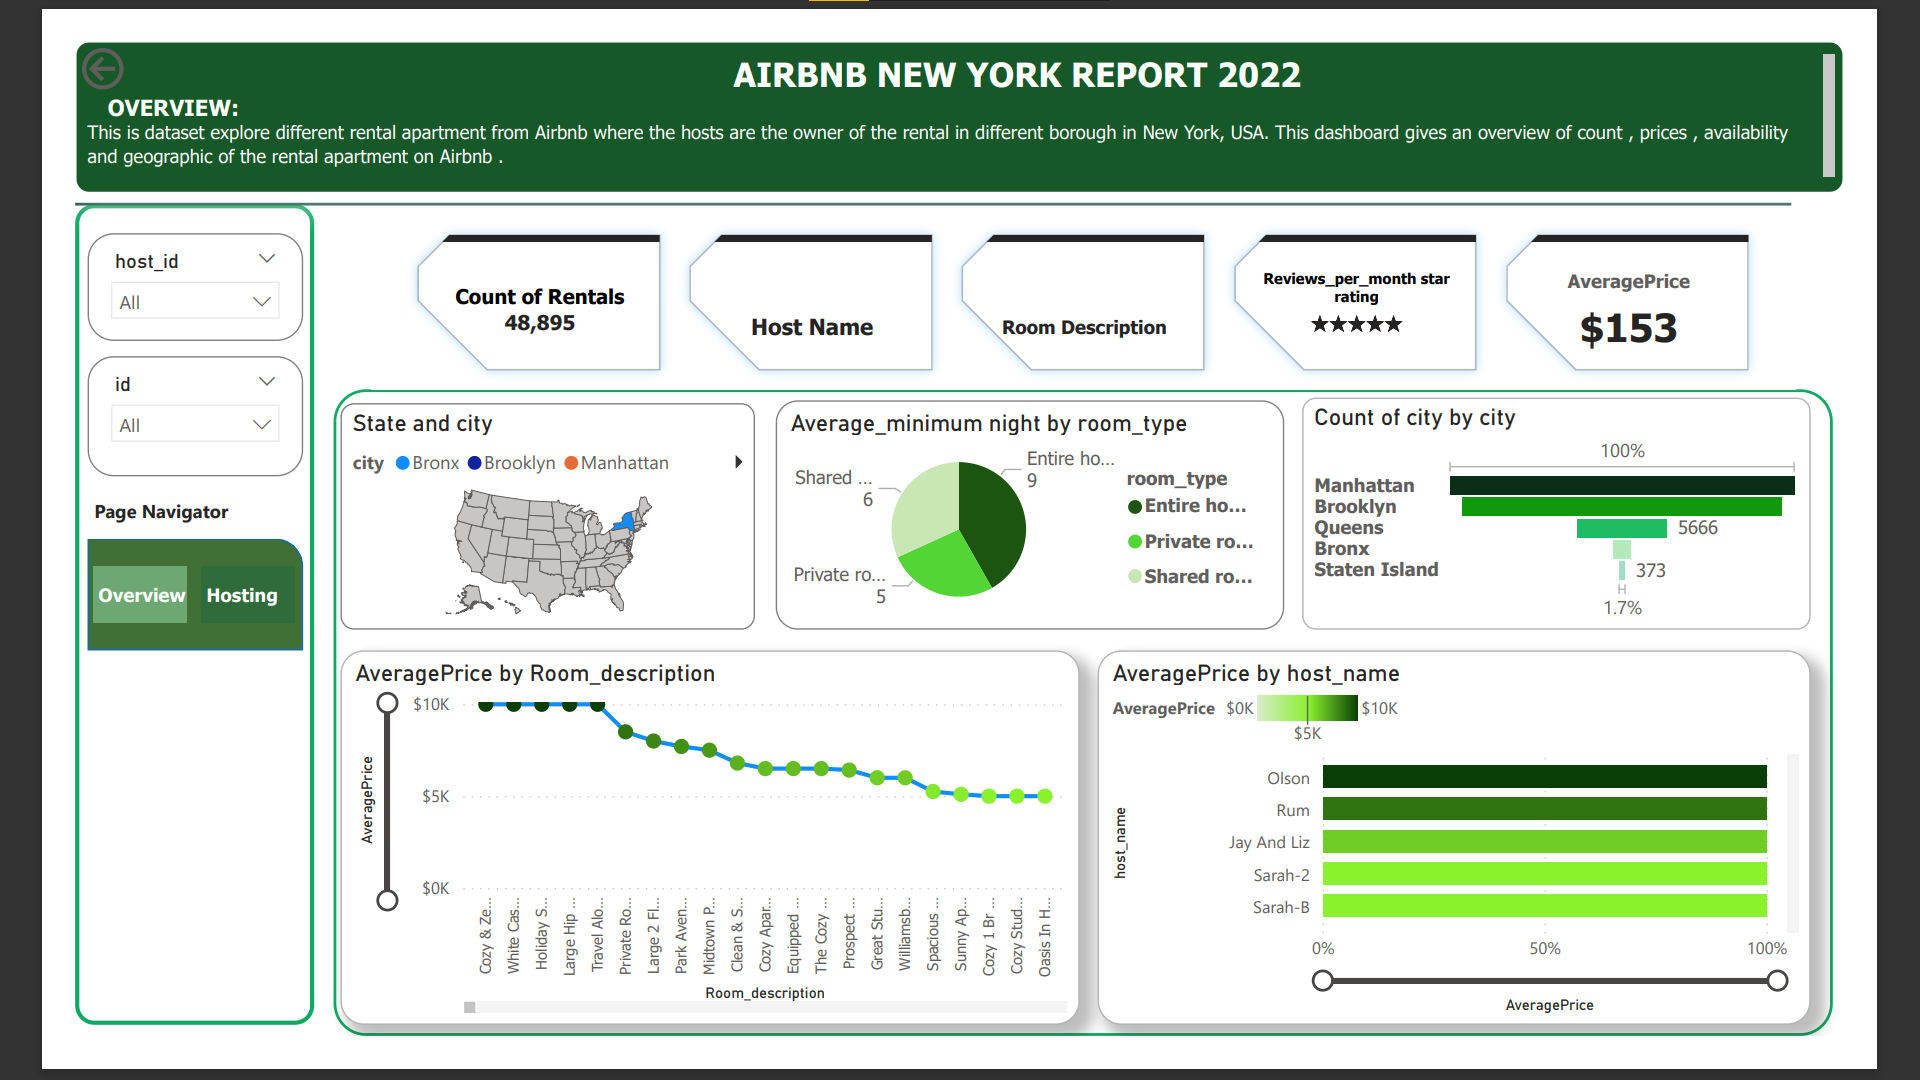

Layout of this report page (visuals, bound fields, positions):
{"tool":"powerbi","page":{"name":"Overview ","canvas":[1280,720],"ordinal":0},"visuals":[{"type":"shape","box":[187,252,1085,468],"z":0},{"type":"shape","box":[0,118,173,594],"z":1000},{"type":"shape","box":[0,68,1242,100],"z":2000},{"type":"slicer","title":"Host_id","fields":{"Values":["AB_NYC_2019 - Copy csv in.host_id"]},"box":[9,139,156,78],"z":3000},{"type":"textbox","box":[0,0,1280,110],"z":4000},{"type":"cardVisual","fields":{"Data":["AB_NYC_2019 - Copy csv in.id","AB_NYC_2019 - Copy csv in.selected","AB_NYC_2019 - Copy csv in.Select","AB_NYC_2019 - Copy csv in.reviews_per_month star rating 2","AB_NYC_2019 - Copy csv in.AveragePrice"]},"box":[214,126,1031,126],"z":5000},{"type":"lineChart","fields":{"Category":["AB_NYC_2019 - Copy csv in.Name"],"Y":["AB_NYC_2019 - Copy csv in.AveragePrice"]},"box":[192,441,535,271],"z":6000},{"type":"funnel","fields":{"Category":["AB_NYC_2019 - Copy csv in.city"],"Y":["AB_NYC_2019 - Copy csv in.city"]},"box":[888,258,368,168],"z":7000},{"type":"pieChart","fields":{"Series":["AB_NYC_2019 - Copy csv in.room_type"],"Y":["AB_NYC_2019 - Copy csv in.Average_minimum night"]},"box":[507,260,368,166],"z":8000},{"type":"slicer","title":"Host_id","fields":{"Values":["AB_NYC_2019 - Copy csv in.id"]},"box":[9,228,156,87],"z":9000},{"type":"shape","box":[9,360,156,81],"z":10000},{"type":"pageNavigator","box":[13,380,147,41],"z":11000},{"type":"textbox","box":[9,326,151,34],"z":12000},{"type":"hundredPercentStackedBarChart","fields":{"Category":["AB_NYC_2019 - Copy csv in.host_name"],"Y":["AB_NYC_2019 - Copy csv in.AveragePrice"]},"box":[740,441,516,271],"z":13000},{"type":"shapeMap","fields":{"Series":["AB_NYC_2019 - Copy csv in.city"],"Category":["AB_NYC_2019 - Copy csv in.State"]},"box":[192,262,300,164],"z":14000},{"type":"actionButton","box":[0,0,100,40],"z":15000}]}

Visuals, with their boxes in screenshot pixels (x1, y1, x2, y2), scaled from the page's 1280x720 canvas onto the 1920x1080 screenshot:
shape: pyautogui.locateOnScreen(280, 378, 1908, 1079)
shape: pyautogui.locateOnScreen(0, 177, 260, 1068)
shape: pyautogui.locateOnScreen(0, 102, 1863, 252)
"Host_id" slicer: pyautogui.locateOnScreen(14, 208, 248, 326)
textbox: pyautogui.locateOnScreen(0, 0, 1919, 165)
cardVisual - AB_NYC_2019 - Copy csv in.id x AB_NYC_2019 - Copy csv in.selected: pyautogui.locateOnScreen(321, 189, 1868, 378)
lineChart - AB_NYC_2019 - Copy csv in.Name x AB_NYC_2019 - Copy csv in.AveragePrice: pyautogui.locateOnScreen(288, 662, 1090, 1068)
funnel - AB_NYC_2019 - Copy csv in.city x AB_NYC_2019 - Copy csv in.city: pyautogui.locateOnScreen(1332, 387, 1884, 639)
pieChart - AB_NYC_2019 - Copy csv in.room_type x AB_NYC_2019 - Copy csv in.Average_minimum night: pyautogui.locateOnScreen(760, 390, 1312, 639)
"Host_id" slicer: pyautogui.locateOnScreen(14, 342, 248, 472)
shape: pyautogui.locateOnScreen(14, 540, 248, 662)
pageNavigator: pyautogui.locateOnScreen(20, 570, 240, 632)
textbox: pyautogui.locateOnScreen(14, 489, 240, 540)
hundredPercentStackedBarChart - AB_NYC_2019 - Copy csv in.host_name x AB_NYC_2019 - Copy csv in.AveragePrice: pyautogui.locateOnScreen(1110, 662, 1884, 1068)
shapeMap - AB_NYC_2019 - Copy csv in.city x AB_NYC_2019 - Copy csv in.State: pyautogui.locateOnScreen(288, 393, 738, 639)
actionButton: pyautogui.locateOnScreen(0, 0, 150, 60)
